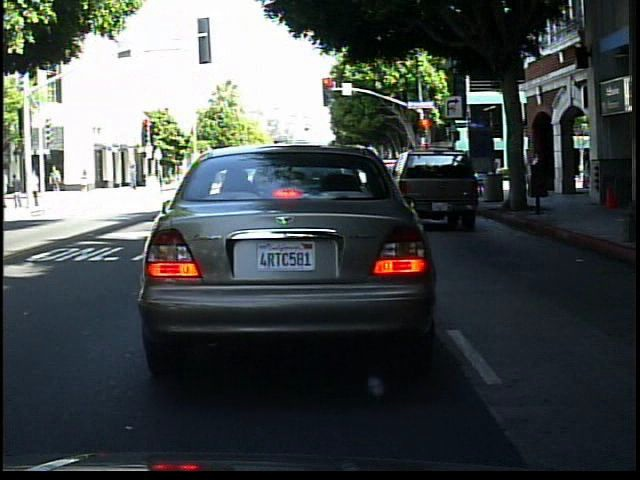person: (616, 141, 639, 215), (598, 145, 620, 220), (78, 161, 96, 199), (28, 166, 43, 210), (47, 162, 66, 196), (126, 159, 143, 193), (11, 171, 26, 209)
